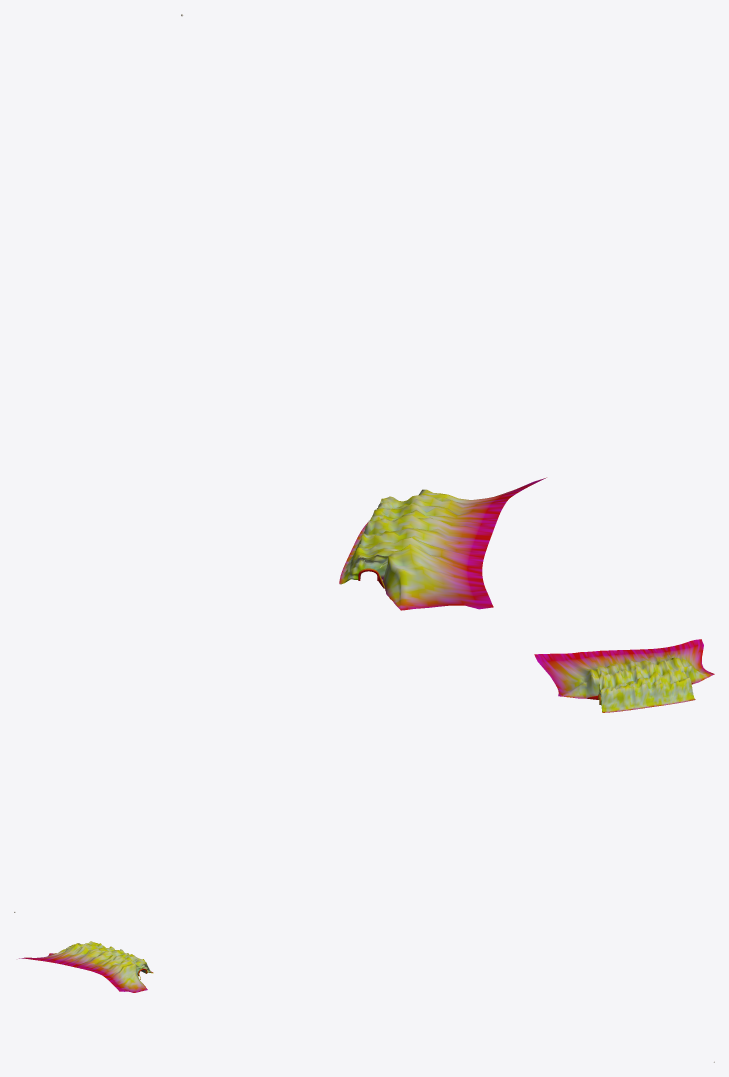
Rendered from tunnel.glb.
3 views of the same model, one above another, from view 1: azimuth 30°, elevation 25°; view 2: azimuth 150°, elevation 25°; view 3: azimuth 270°, elevation 25° (orthographic). The views are drawn at different scales.
Visible parts, largest first — view 1: Cliff; view 2: Cliff; view 3: Cliff.
Part boxes in pixels (x1,y1,x2,y2): Cliff: (339, 477, 546, 610); Cliff: (534, 639, 714, 712); Cliff: (19, 941, 153, 992).
Size of the model in its own units: 360 by 30.48 by 945.
